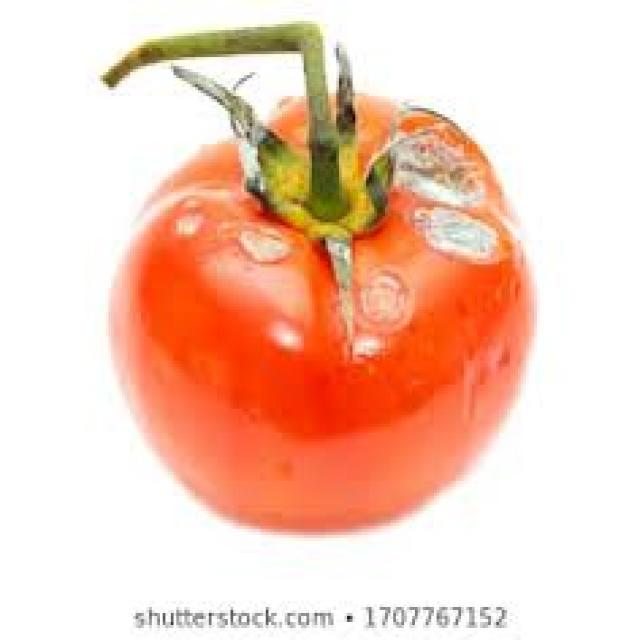organic waste: (103, 21, 532, 529)
